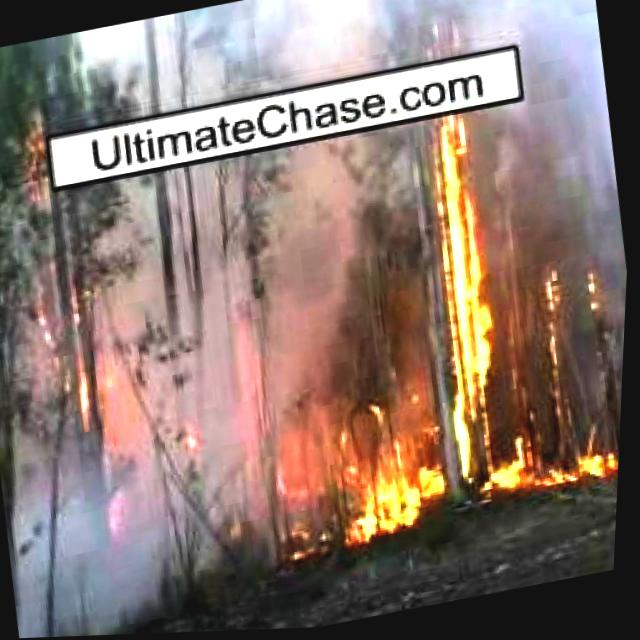helmet: (416, 88, 550, 500), (321, 411, 455, 558), (69, 347, 145, 476), (20, 114, 67, 203), (551, 448, 624, 490)
no_helmet: (0, 128, 461, 640), (74, 0, 600, 124)
